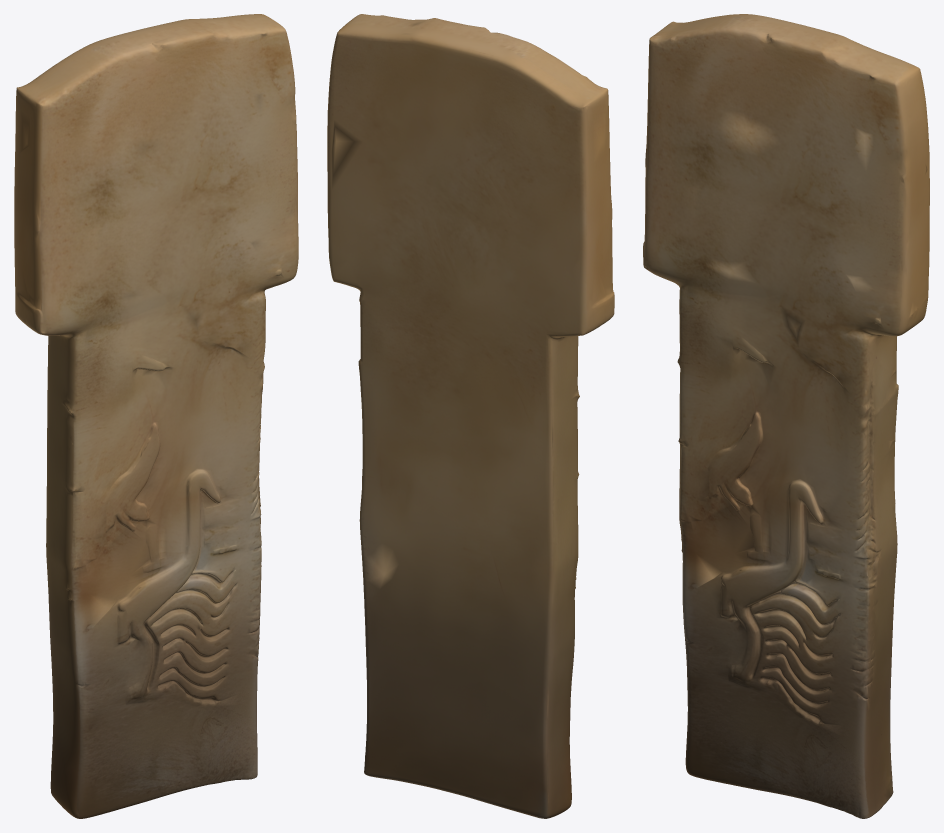
The model's file is lanzon_chavin.glb.
3 views of the same model, side by side, from view 1: azimuth 30°, elevation 25°; view 2: azimuth 150°, elevation 25°; view 3: azimuth 330°, elevation 25° (orthographic).
Parts seen in each view (by area): view 1: material; view 2: material; view 3: material.
Boxes of the visible parts, bbox=[...] form: material: bbox=[14, 14, 298, 818]; material: bbox=[327, 14, 614, 818]; material: bbox=[643, 14, 929, 818].
Bounding box in the file's own units: 0.427 × 1.17 × 0.0881.
Materials: 1 (1 with a texture image).
